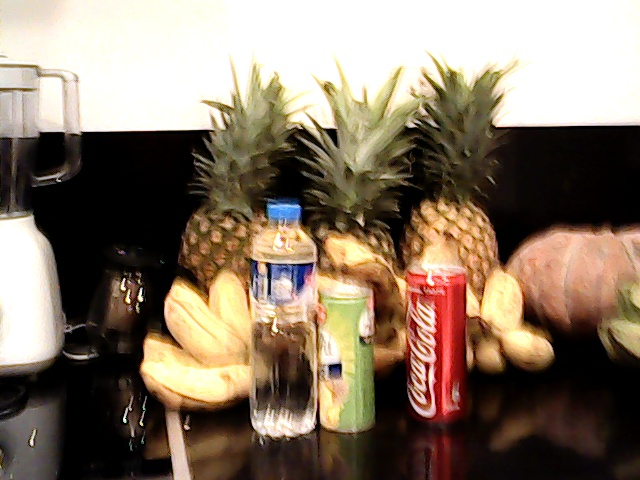Cola: (396, 253, 475, 430)
Pine Juice: (316, 277, 386, 440)
Summit Water: (240, 190, 323, 447)
